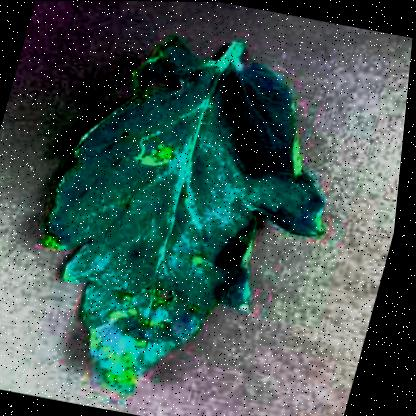BACTERIAL SPOT: (2, 7, 371, 415)
